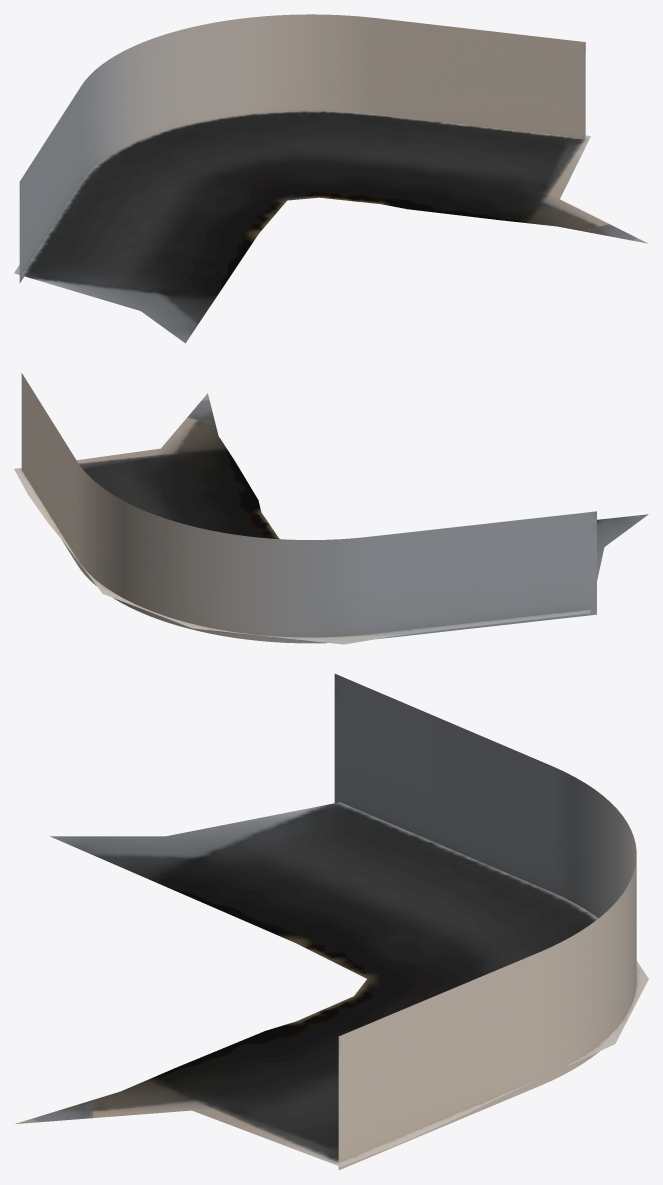
The model's file is Back wall and floor.fbx.
3 renders of one model, top to bottom at view 1: azimuth 30°, elevation 25°; view 2: azimuth 150°, elevation 25°; view 3: azimuth 270°, elevation 25°, orthographic. The views are drawn at different scales.
Parts seen in each view (by area): view 1: Back wall and floor; view 2: Back wall and floor; view 3: Back wall and floor.
Part boxes in pixels (x1,y1,x2,y2): Back wall and floor: (14,14,647,343); Back wall and floor: (14,373,648,644); Back wall and floor: (15,674,648,1169).
Bounding box in the file's own units: 9709 × 1652 × 7095.
1 material, 1 textured.
